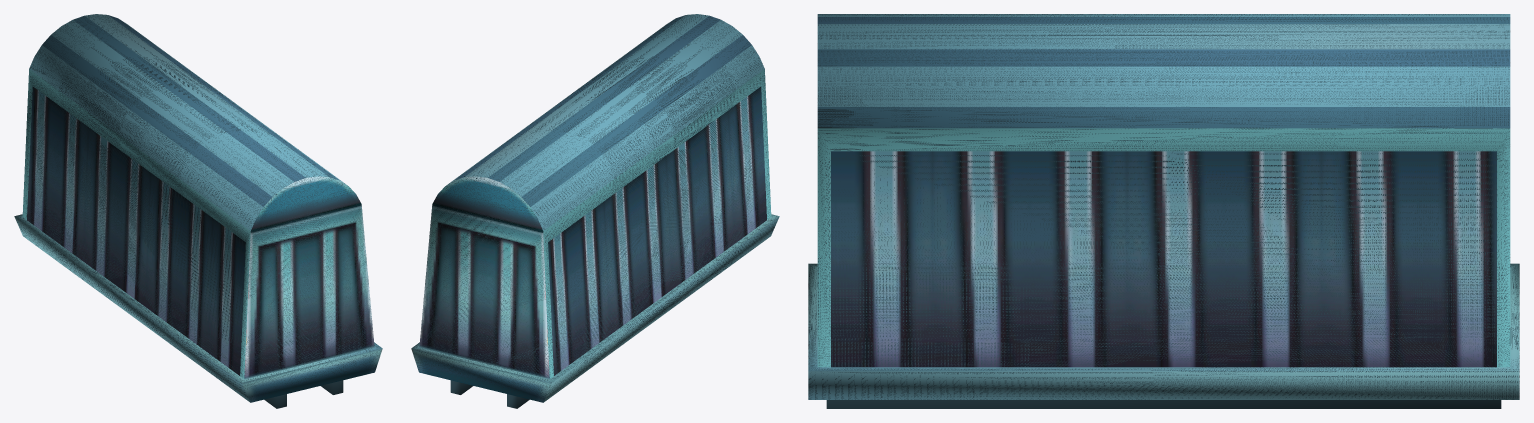
The picture shows the model from 3 angles, left to right: view 1: azimuth 30°, elevation 25°; view 2: azimuth 150°, elevation 25°; view 3: azimuth 270°, elevation 25°; orthographic projection. The views are drawn at different scales.
Visible parts, largest first — view 1: SketchUp (×4); view 2: SketchUp (×4); view 3: SketchUp (×5).
Part boxes in pixels (<box>): SketchUp (×4): <box>14,14,382,402</box>; SketchUp (×4): <box>411,14,779,402</box>; SketchUp (×5): <box>808,14,1519,408</box>.
Bounding box in the file's own units: 54.04 × 151 × 83.1.
Materials: 4 (3 with a texture image).
